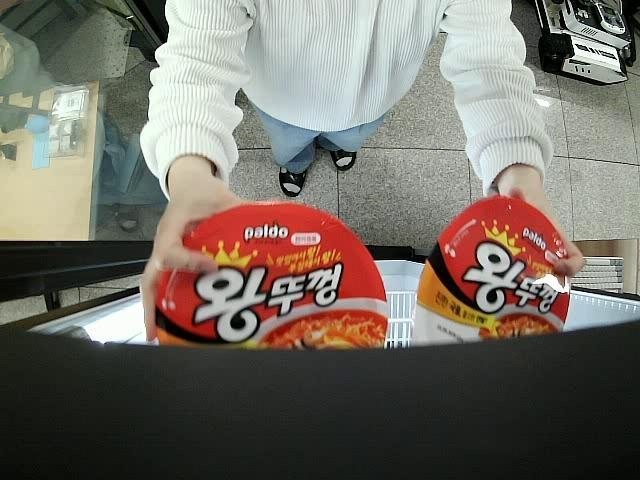10_wangTtukkeong: (150, 203, 388, 347), (416, 196, 570, 345)
